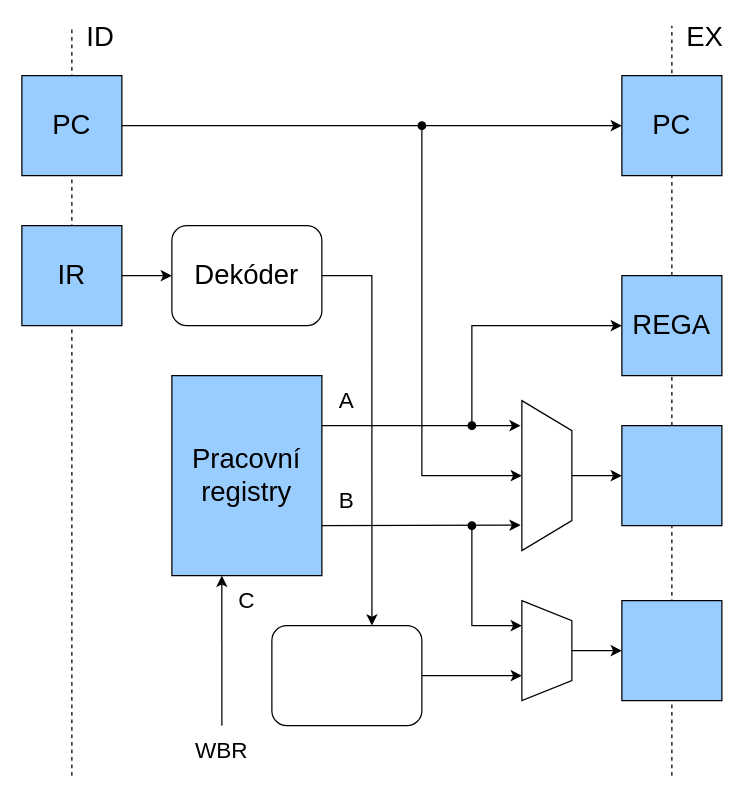
Image size: 756x799. Some labels were removed from this diagram. The centre of each missing label's shape, as x and y in pixels:
"ALUA" belongs at [671,475].
"ALUB" belongs at [671,650].
"Extraktor konstant" belongs at [346,675].
